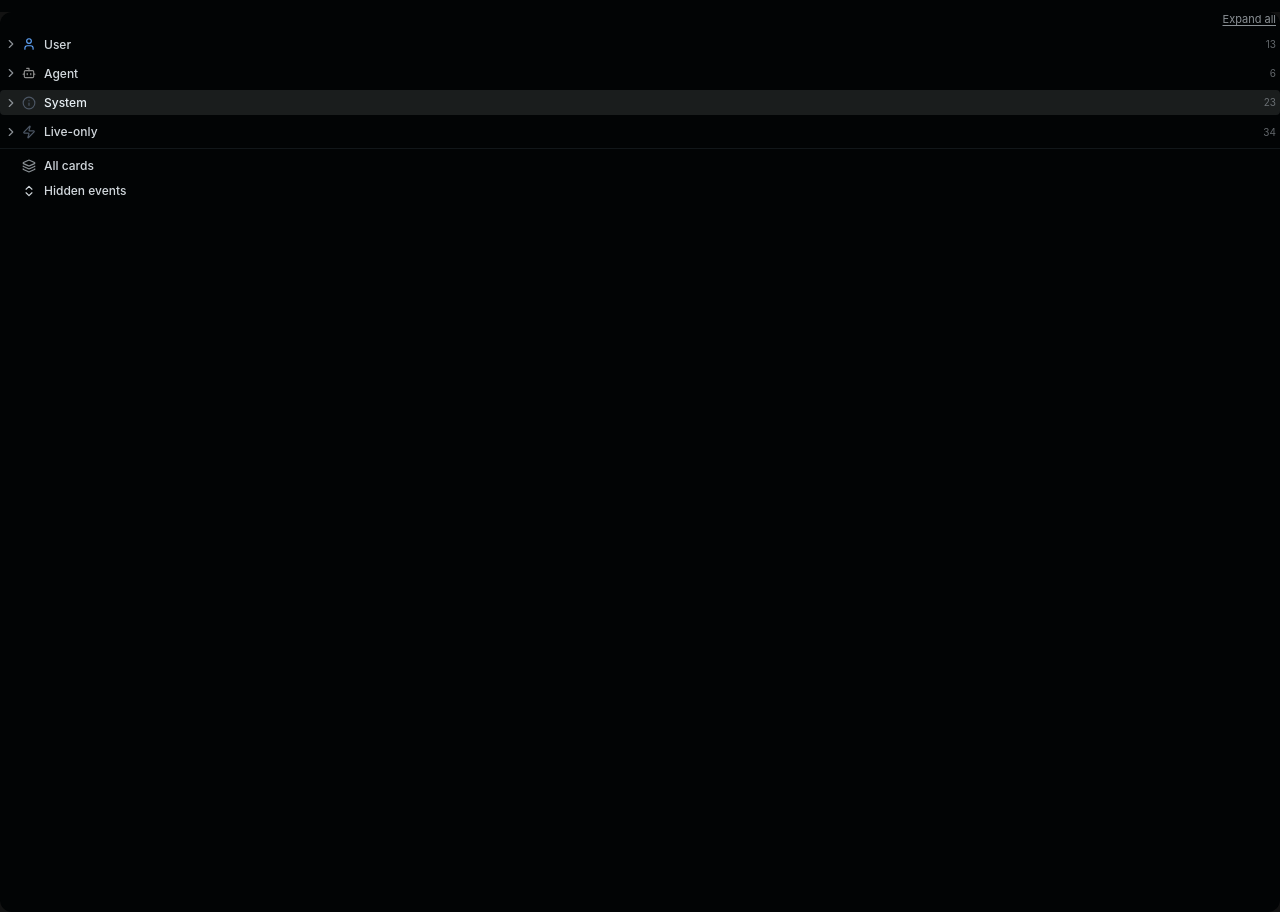
it: MessageKindTree — registry-driven › lists registry kinds under their category once expanded
Click the button "Expand all" at (1249, 20), box [1222, 12, 1276, 28]
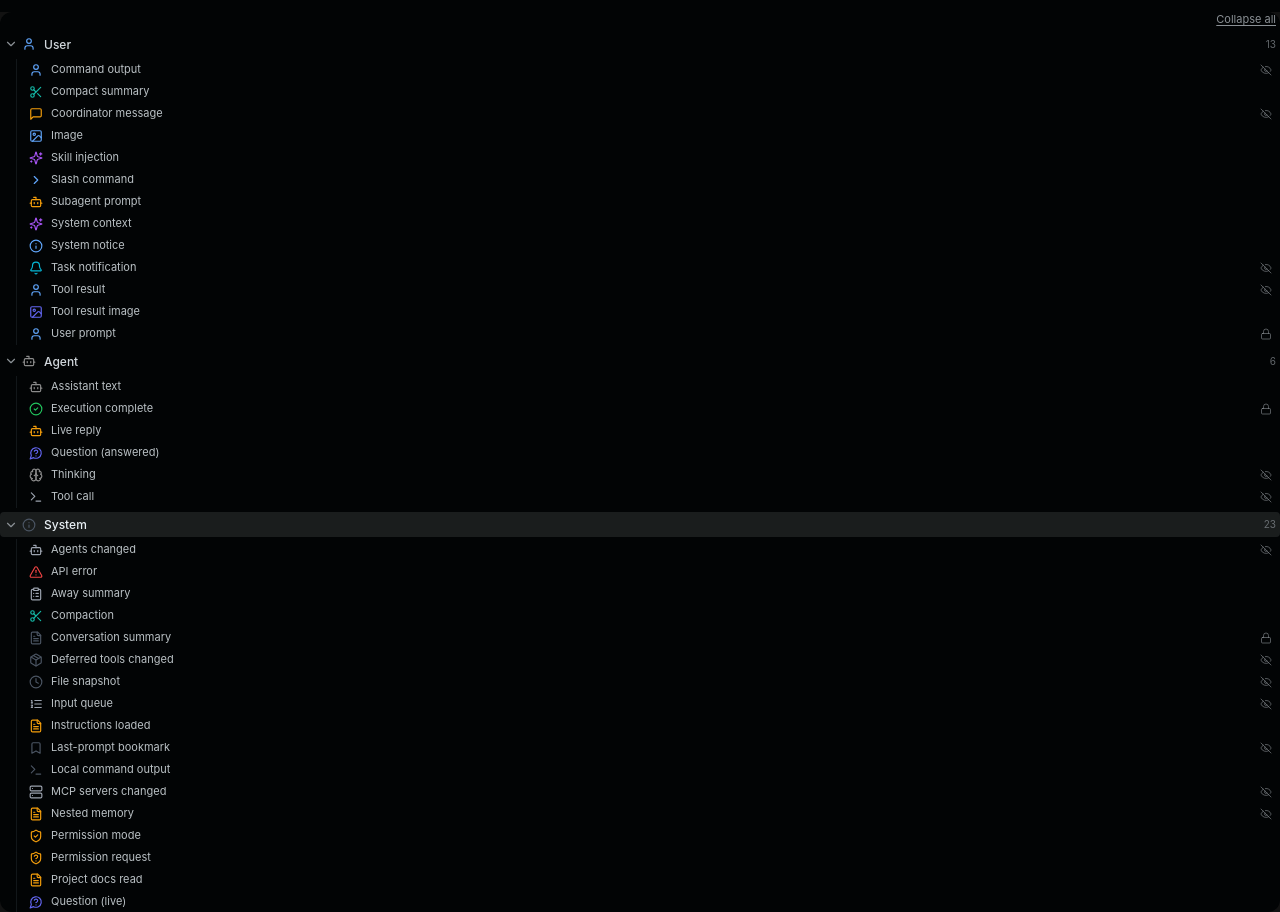
Now the text "Permission request" is shown, box [51, 850, 151, 864]
Now the text "Execution complete" is shown, box [51, 401, 153, 415]
